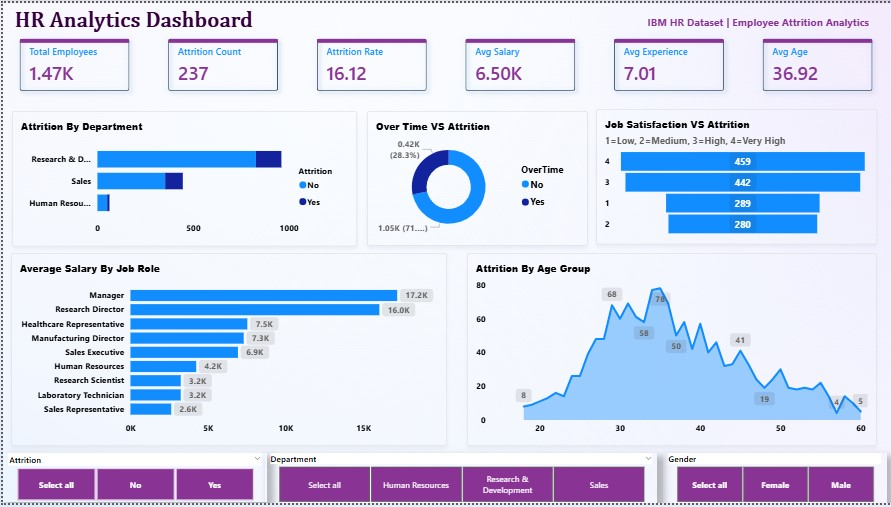

This screenshot's page, from the dashboard's own definition file:
{"tool":"powerbi","page":{"name":"DashBoard","canvas":[1280,720],"ordinal":0},"visuals":[{"type":"barChart","title":"Attrition By Department","fields":{"Category":["HR-Employee-Attrition.Department"],"Y":["Sum(HR-Employee-Attrition.EmployeeCount)"],"Series":["HR-Employee-Attrition.Attrition"]},"box":[13.3,155,496.7,195],"z":0},{"type":"clusteredBarChart","title":"Average Salary By Job Role","fields":{"Category":["HR-Employee-Attrition.JobRole"],"Y":["Avg(HR-Employee-Attrition.MonthlyIncome)"]},"box":[11.7,360,628.3,278.3],"z":1000},{"type":"donutChart","title":"Over Time VS Attrition","fields":{"Category":["HR-Employee-Attrition.OverTime"],"Y":["CountNonNull(HR-Employee-Attrition.Attrition)"]},"box":[524.2,155.5,318.2,194.4],"z":2000},{"type":"lineChart","title":" Attrition By Age Group","fields":{"Category":["HR-Employee-Attrition.Age"],"Y":["CountNonNull(HR-Employee-Attrition.Attrition)"]},"box":[668.3,360,590,278.3],"z":3000},{"type":"funnel","title":"Job Satisfaction VS Attrition ","fields":{"Category":["HR-Employee-Attrition.JobSatisfaction"],"Y":["CountNonNull(HR-Employee-Attrition.Attrition)"]},"box":[853.3,153.3,405,195],"z":4000},{"type":"cardVisual","fields":{"Data":["CountNonNull(HR-Employee-Attrition.EmployeeCount)","HR-Employee-Attrition.Count of Attrition for Yes","HR-Employee-Attrition.Attrition Rate","Avg(HR-Employee-Attrition.MonthlyIncome)","Avg(HR-Employee-Attrition.YearsAtCompany)","Avg(HR-Employee-Attrition.Age)"]},"box":[0,26.7,1280,123.3],"z":5000},{"type":"slicer","fields":{"Values":["HR-Employee-Attrition.Attrition"]},"box":[0,648.3,380,70],"z":6000},{"type":"slicer","fields":{"Values":["HR-Employee-Attrition.Department"]},"box":[376.7,648.3,565,71.7],"z":7000},{"type":"slicer","fields":{"Values":["HR-Employee-Attrition.Gender"]},"box":[950,648.3,321.7,71.7],"z":8000},{"type":"textbox","box":[11.7,1.7,410,53.3],"z":9000},{"type":"textbox","box":[923.3,11.7,335,33.3],"z":10000}]}

Visuals, with their boxes in screenshot pixels (x1, y1, x2, y2), scaled from the page's 1280x720 canvas onto the 891x507 screenshot:
"Attrition By Department" barChart: 9:109:355:246
"Average Salary By Job Role" clusteredBarChart: 8:254:446:449
"Over Time VS Attrition" donutChart: 365:109:586:246
" Attrition By Age Group" lineChart: 465:254:876:449
"Job Satisfaction VS Attrition " funnel: 594:108:876:245
cardVisual - CountNonNull(HR-Employee-Attrition.EmployeeCount) x HR-Employee-Attrition.Count of Attrition for Yes: 0:19:890:106
slicer - HR-Employee-Attrition.Attrition: 0:457:265:506
slicer - HR-Employee-Attrition.Department: 262:457:656:506
slicer - HR-Employee-Attrition.Gender: 661:457:885:506
textbox: 8:1:294:39
textbox: 643:8:876:32
